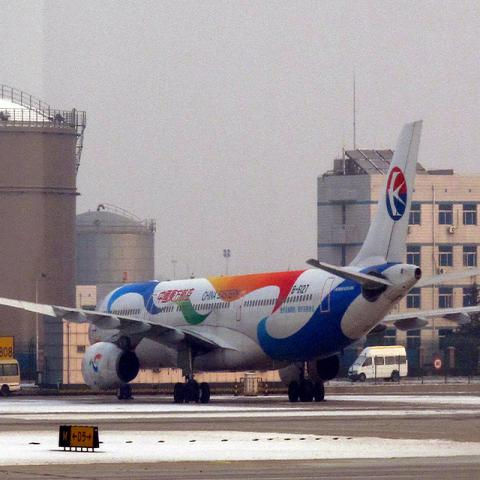bus: (347, 345, 409, 383)
truck: (348, 344, 408, 383), (0, 358, 23, 393)
